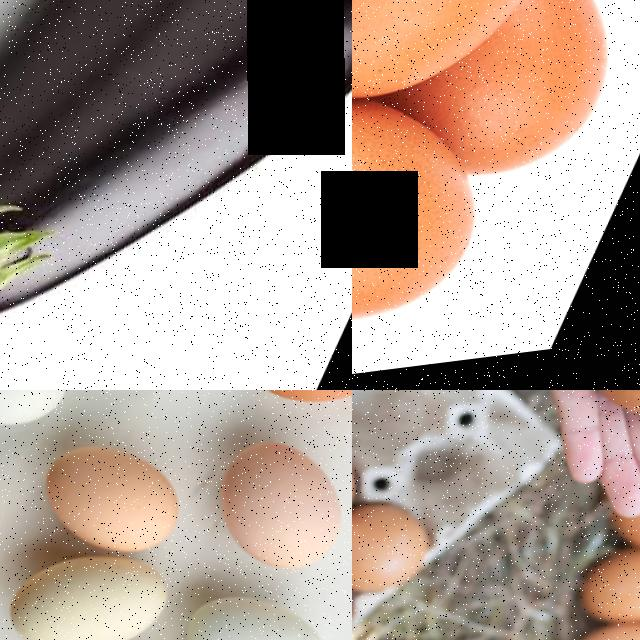egg_: (352, 27, 537, 390), (352, 0, 611, 178), (23, 426, 209, 587), (190, 429, 352, 608), (0, 527, 195, 640), (352, 487, 456, 618), (164, 576, 352, 640), (0, 390, 97, 465), (244, 390, 352, 455), (575, 533, 640, 640), (352, 422, 384, 552), (352, 555, 380, 640)
eggplant: (0, 0, 352, 390)
